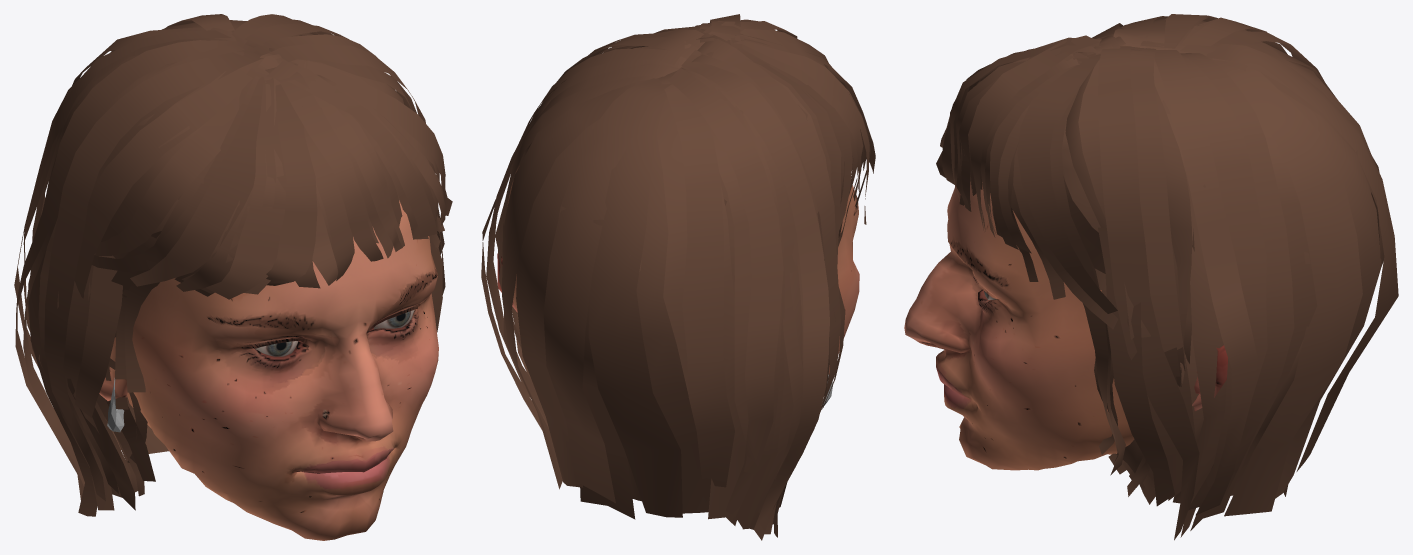
The model's file is camille.glb.
3 renders of one model, left to right at view 1: azimuth 30°, elevation 25°; view 2: azimuth 150°, elevation 25°; view 3: azimuth 270°, elevation 25°, orthographic. The views are drawn at different scales.
Visible parts, largest first — view 1: Hair5.001, HG_Body.003, HG_Eyes.001; view 2: Hair5.001, HG_Body.003; view 3: Hair5.001, HG_Body.003.
Part boxes in pixels (box(x1,y1,x2,y2)): Hair5.001: box(14, 14, 452, 516); HG_Body.003: box(99, 200, 438, 540); HG_Eyes.001: box(255, 310, 414, 356); Hair5.001: box(481, 14, 875, 540); HG_Body.003: box(497, 165, 859, 374); Hair5.001: box(936, 14, 1398, 540); HG_Body.003: box(904, 181, 1227, 470).
Size of the model in its own units: 0.234 by 0.2754 by 0.2724.
Materials: 6 (4 with a texture image).
